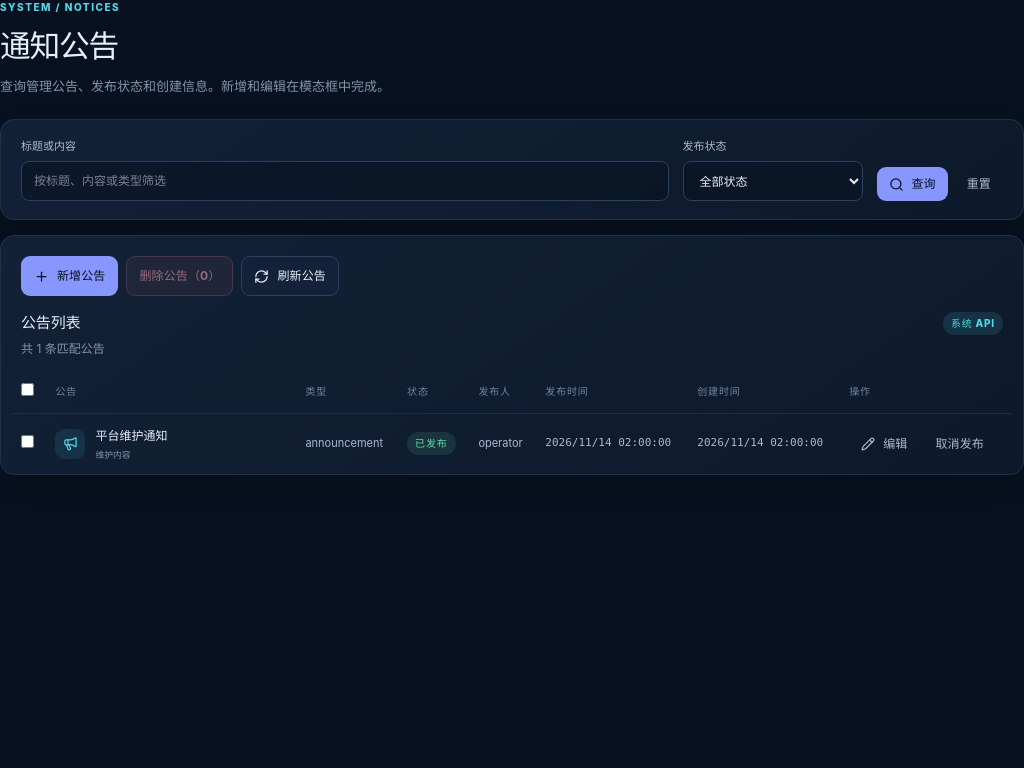
Test: NoticesPage › 确认后批量删除公告
This screenshot has width=1024, height=768.
Expected: the text "平台维护通知" is shown, top-left (95, 427), bottom-right (167, 445)
Click the checkbox named "选择公告 平台维护通知" at (28, 441), box top-left (21, 435), bottom-right (34, 448)
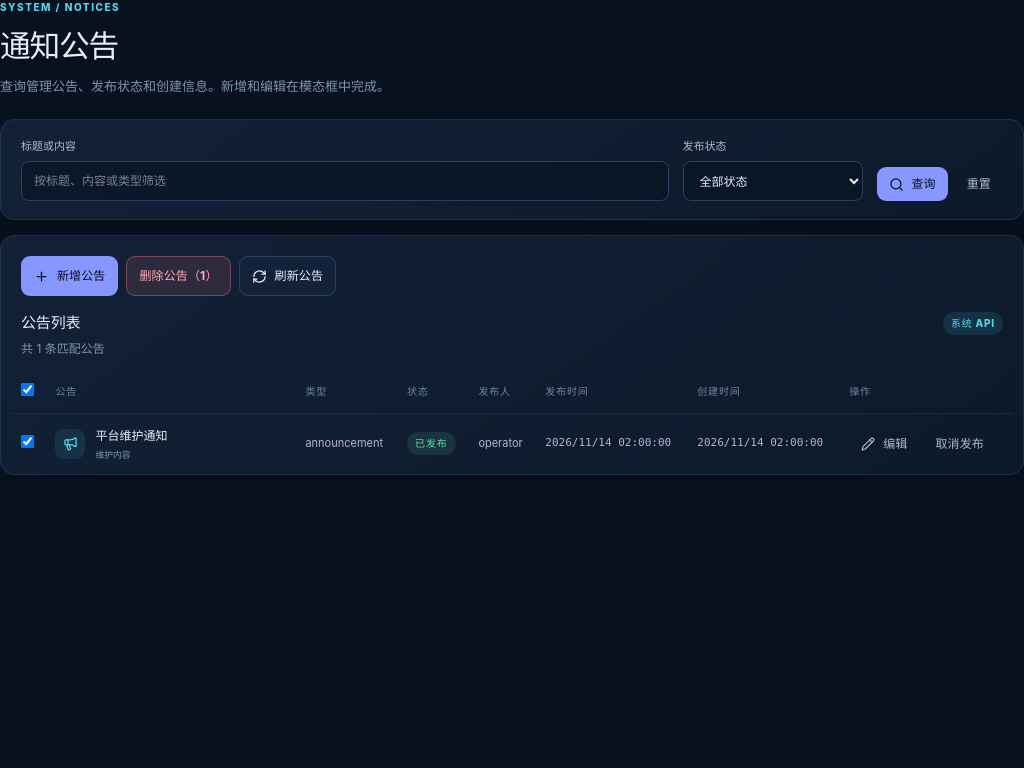
Click the button "删除公告（1）" at (178, 276), box top-left (126, 256), bottom-right (230, 296)
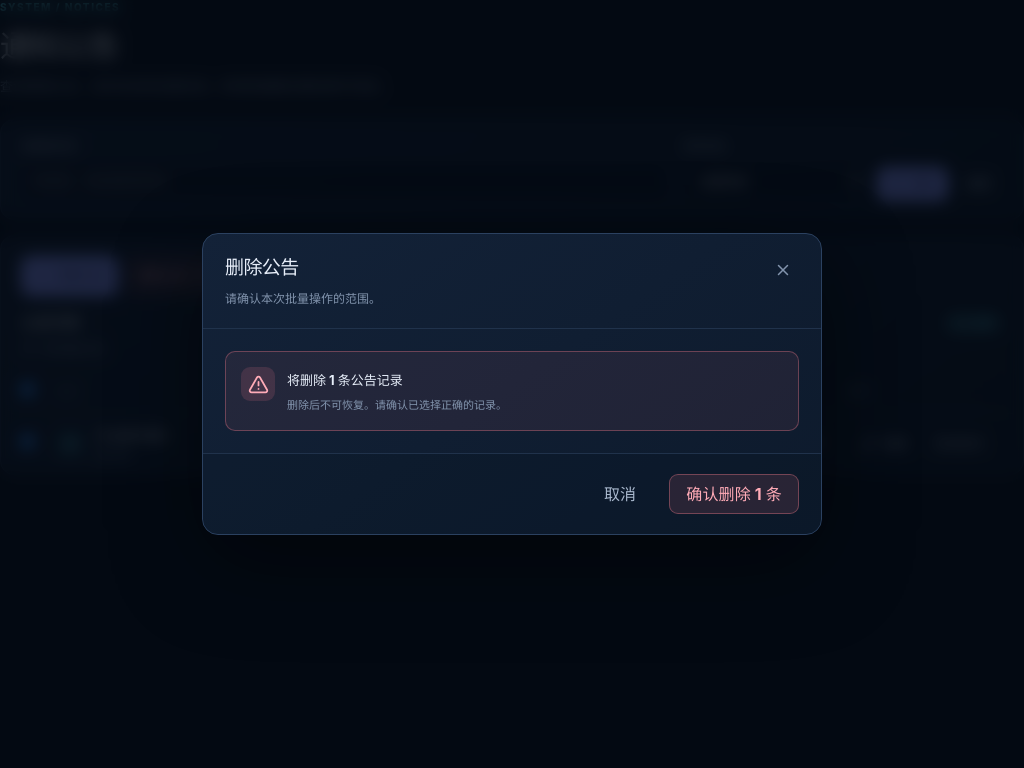
Now the dialog shows "删除后不可恢复", box top-left (287, 398), bottom-right (507, 412)
Click the button "确认删除 1 条" at (734, 494), box top-left (669, 474), bottom-right (799, 514)
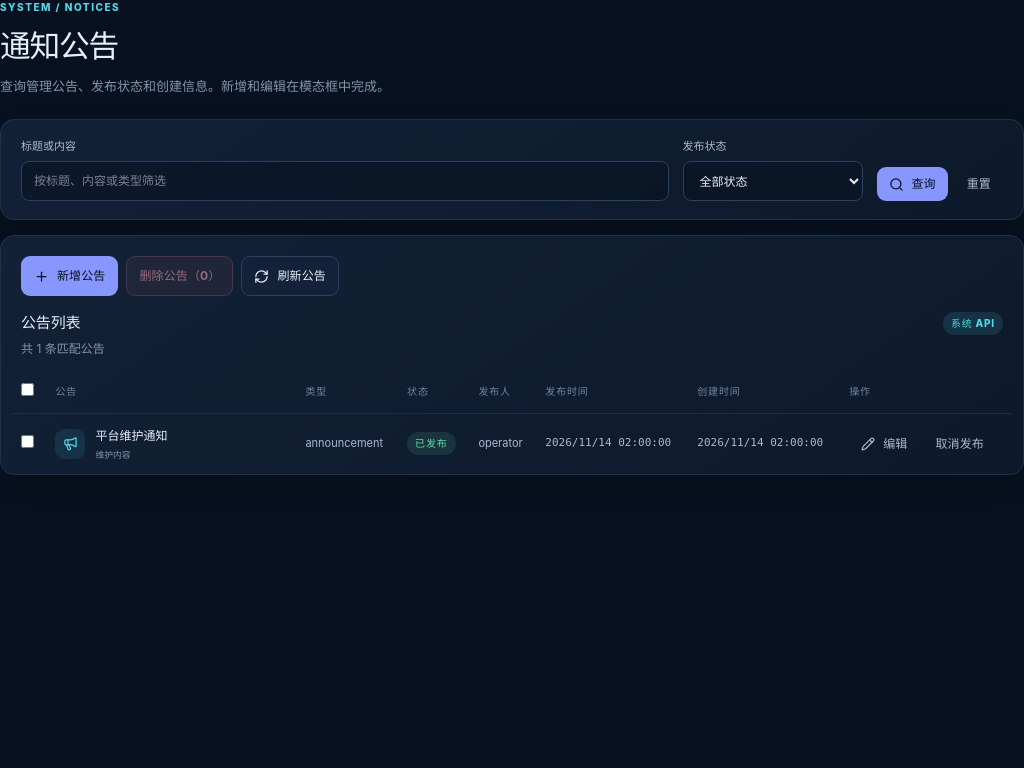
Now the dialog is gone
